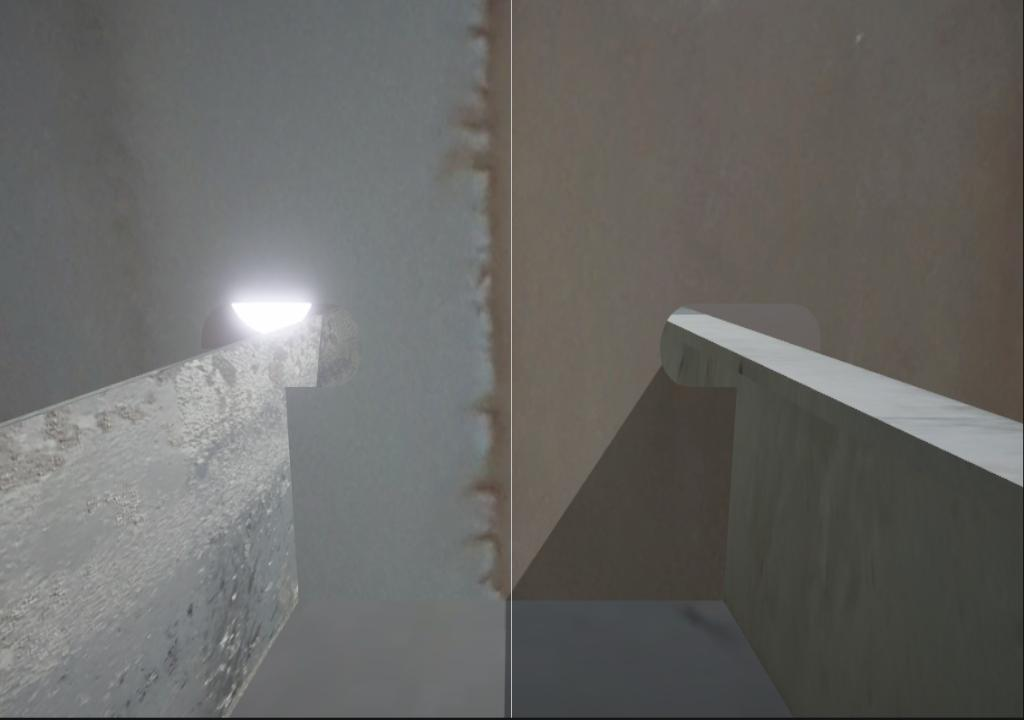fillet_yong_jeop_jang: (273, 584, 730, 617)
longi_yong_jeop_jang: (711, 380, 746, 612), (279, 378, 309, 619)
